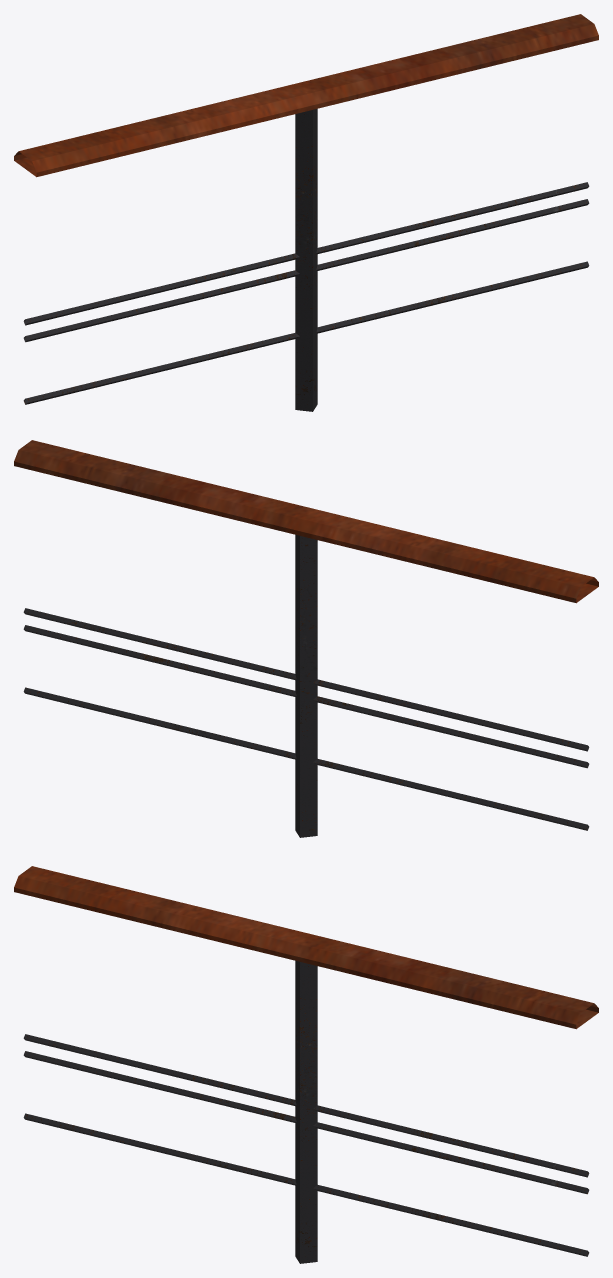
Rendered from Railing_02.glb.
3 views of the same model, one above another, from view 1: azimuth 30°, elevation 25°; view 2: azimuth 150°, elevation 25°; view 3: azimuth 330°, elevation 25° (orthographic).
Parts seen in each view (by area): view 1: Railing_02; view 2: Railing_02; view 3: Railing_02.
Part boxes in pixels (x1,y1,x2,y2): Railing_02: [14, 14, 598, 411]; Railing_02: [14, 440, 598, 837]; Railing_02: [14, 866, 598, 1263].
Bounding box in the file's own units: 2.6 × 1.41 × 0.1812.
Materials: 2 (2 with a texture image).
